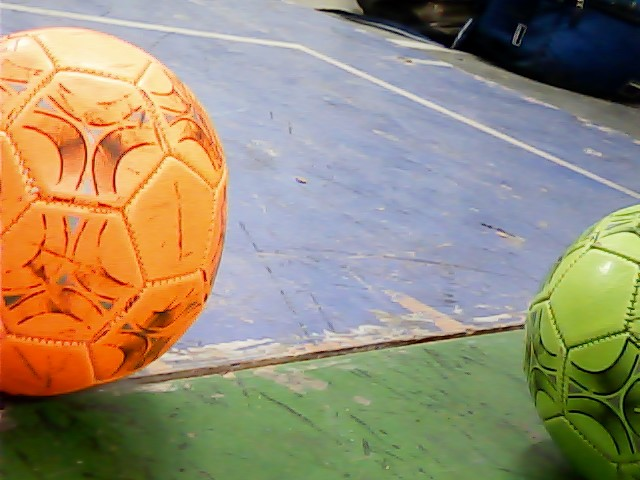Green_ball: (526, 207, 640, 474)
Orange_ball: (1, 28, 239, 391)
